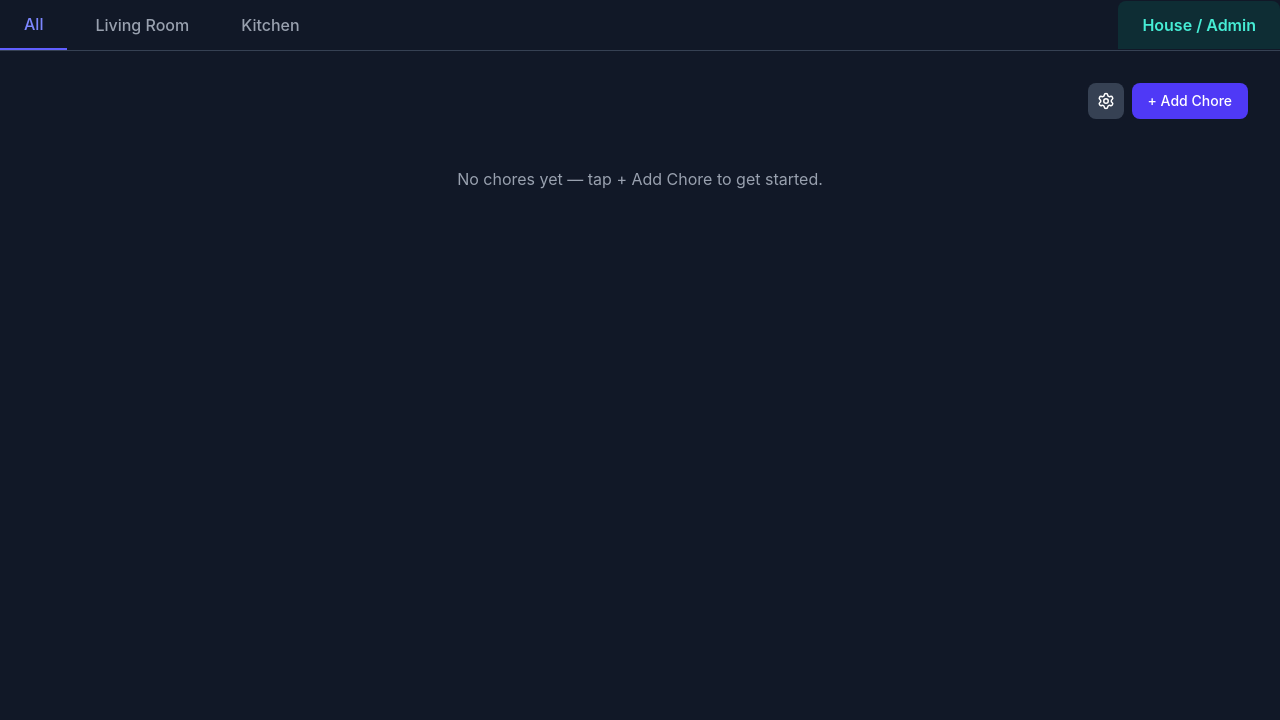
Test: App › multi-household membership › surfaces an error (no silent revert) when a household switch fails
The width and height of the screenshot is (1280, 720).
Click the link with test id "admin-nav-link" at (1199, 25), box [1118,1,1279,49]
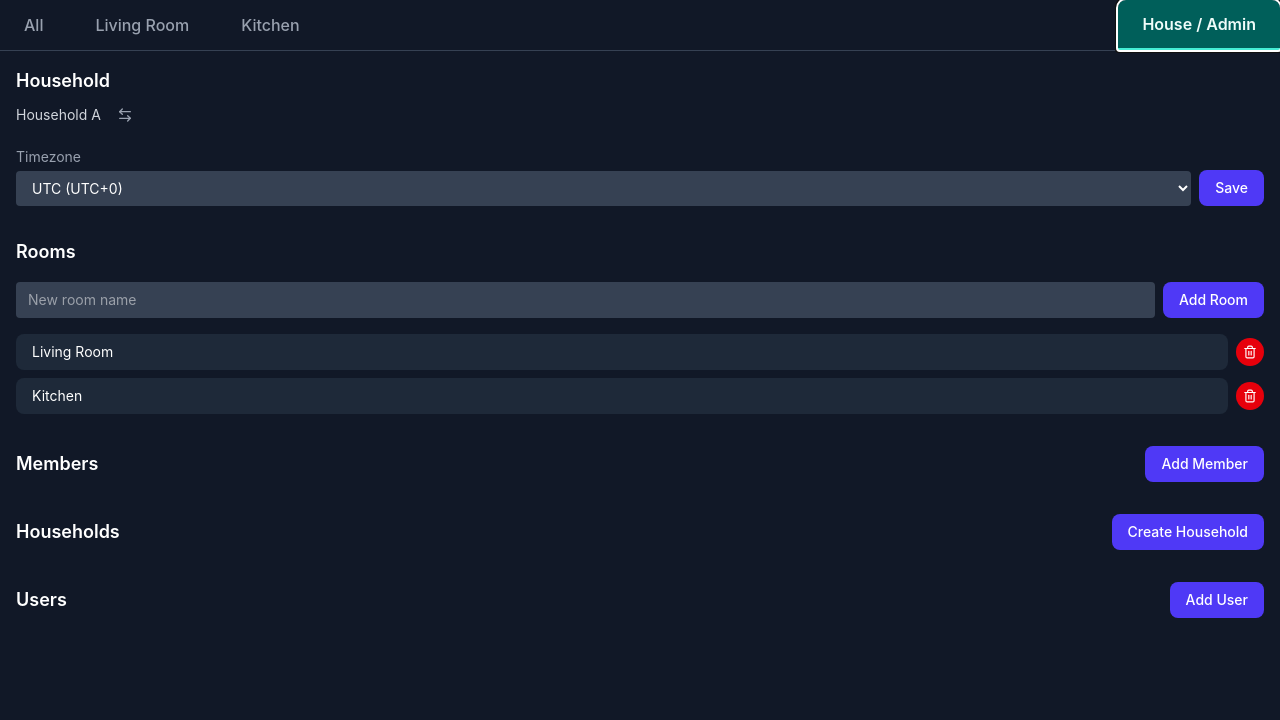
Click the button named "Switch household" at (125, 115), box [109,99,141,131]
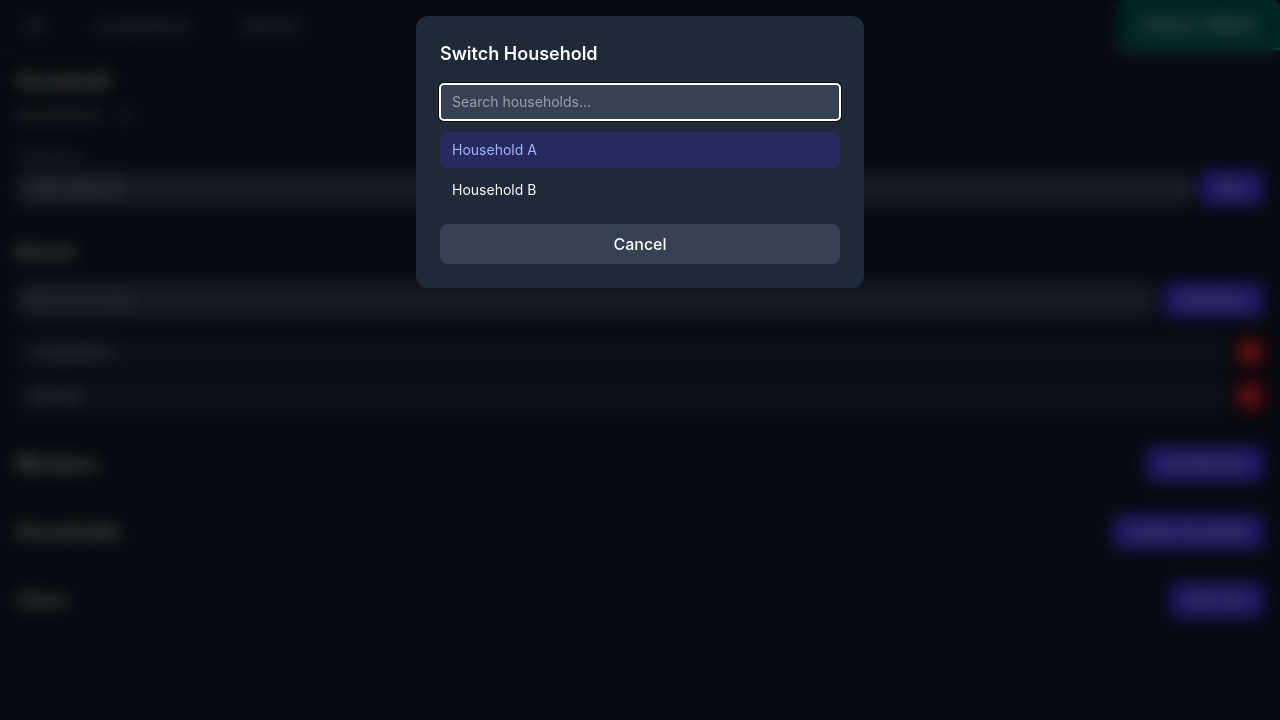
Click the button "Household B" at (494, 190), box [440,172,840,208]
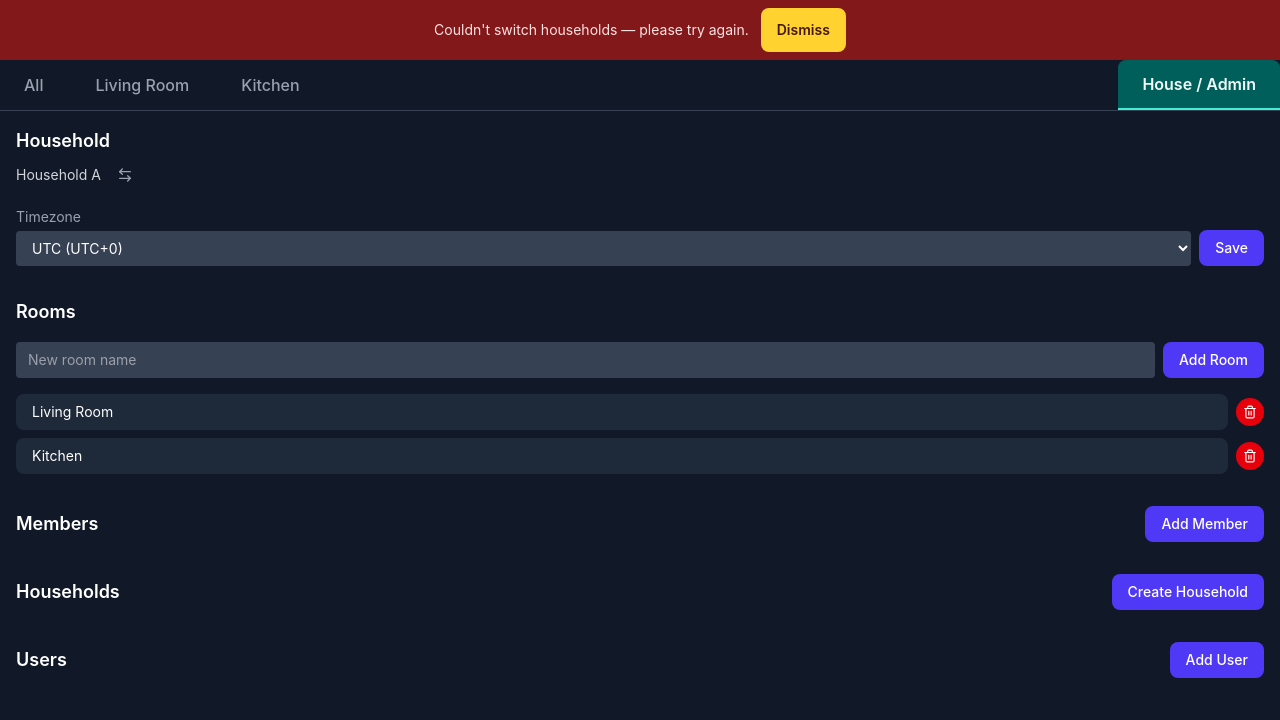
Now the text with test id "household-name" reads "Household A", box [16,166,101,183]
Now the text "Couldn't switch households — please try again." is shown, box [434,20,749,40]
